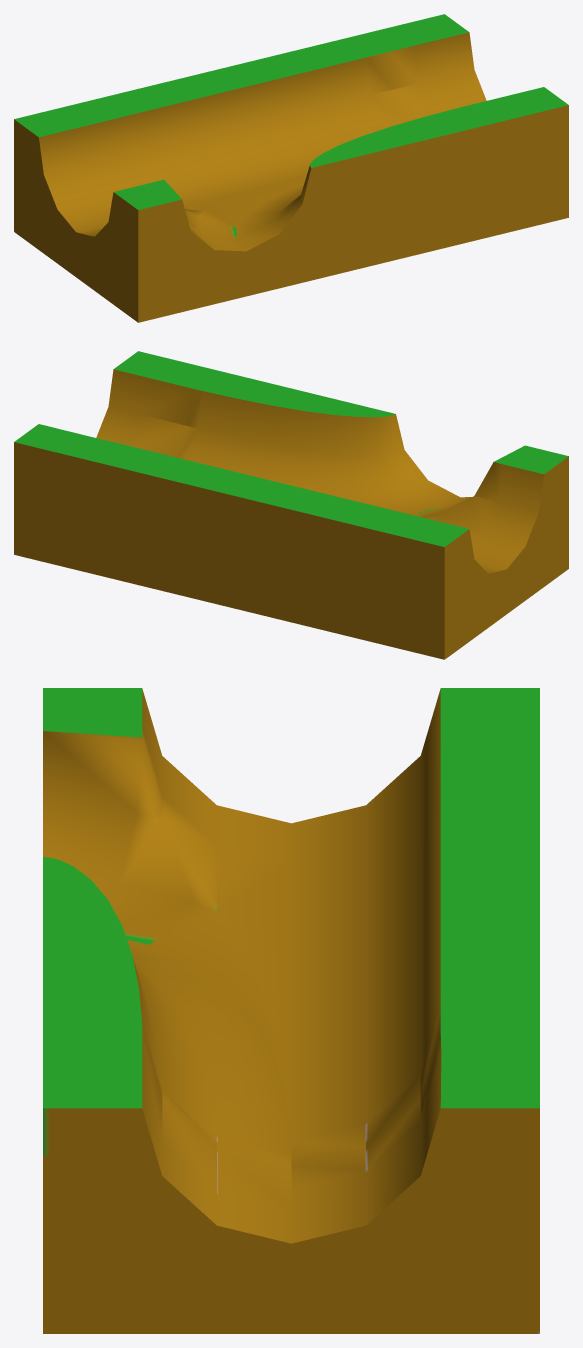
Rendered from threeway_mirror.fbx.
3 views of the same model, one above another, from view 1: azimuth 30°, elevation 25°; view 2: azimuth 150°, elevation 25°; view 3: azimuth 270°, elevation 25° (orthographic). The views are drawn at different scales.
Visible parts, largest first — view 1: Cube_1_1.040; view 2: Cube_1_1.040; view 3: Cube_1_1.040.
Boxes of the visible parts, x1,y1,x2,y2 form: Cube_1_1.040: (14, 14, 568, 322); Cube_1_1.040: (14, 351, 568, 659); Cube_1_1.040: (43, 688, 539, 1333).
Bounding box in the file's own units: 400 × 100 × 200.
